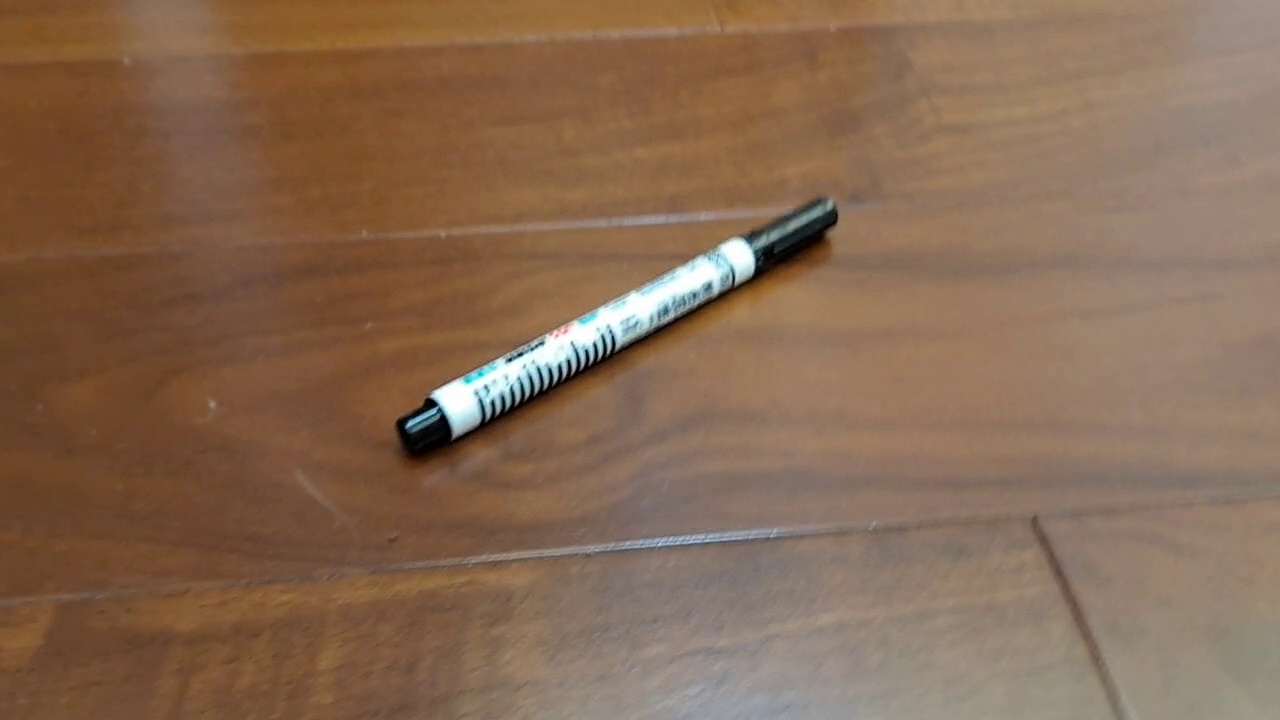pen: (395, 195, 839, 458)
